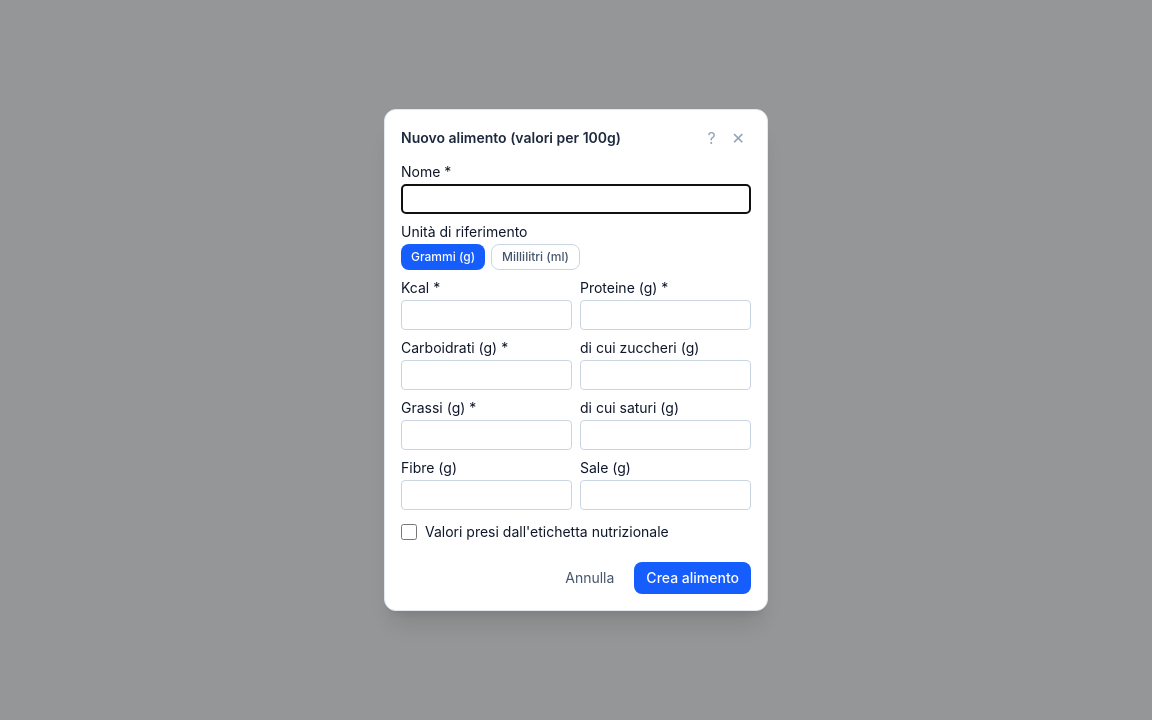
Test: AlimentoFormModal - nuovo alimento › AlimentoFormModal_nomeVuoto_mostraErroreSenzaSalvare
The width and height of the screenshot is (1152, 720).
Type "350" into the number field labelled "Kcal *" at (486, 315), box [401, 300, 572, 330]
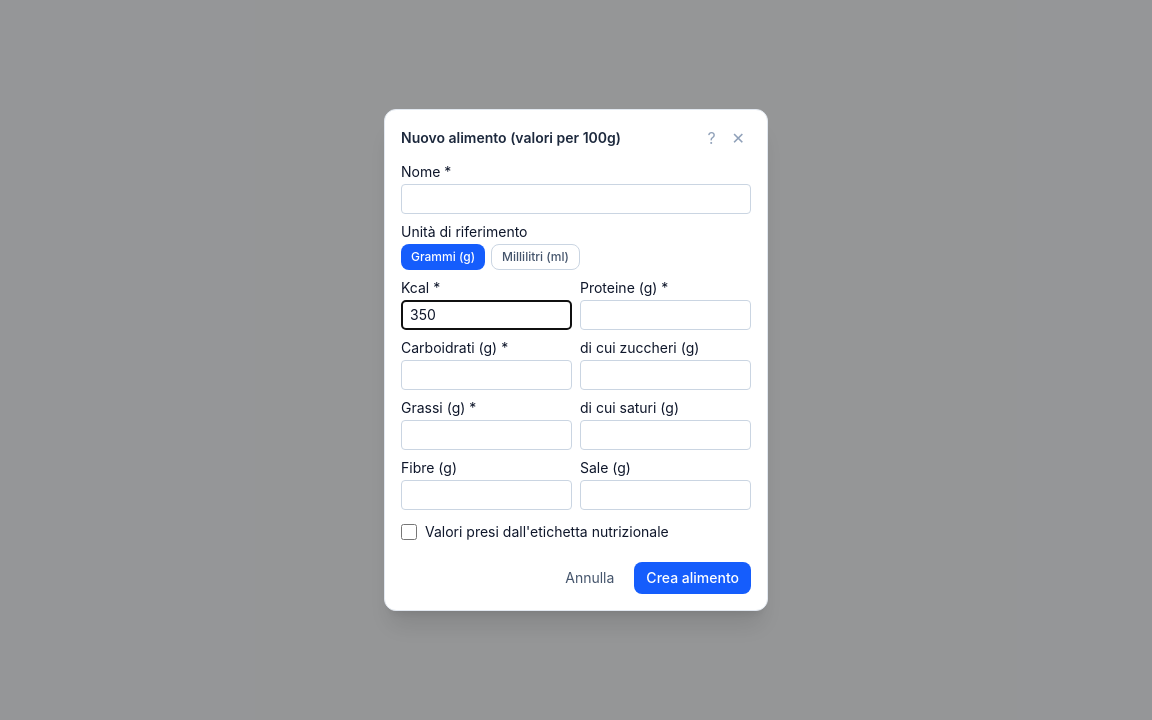
Type "12" into the number field labelled "Proteine (g) *" at (666, 315), box [580, 300, 751, 330]
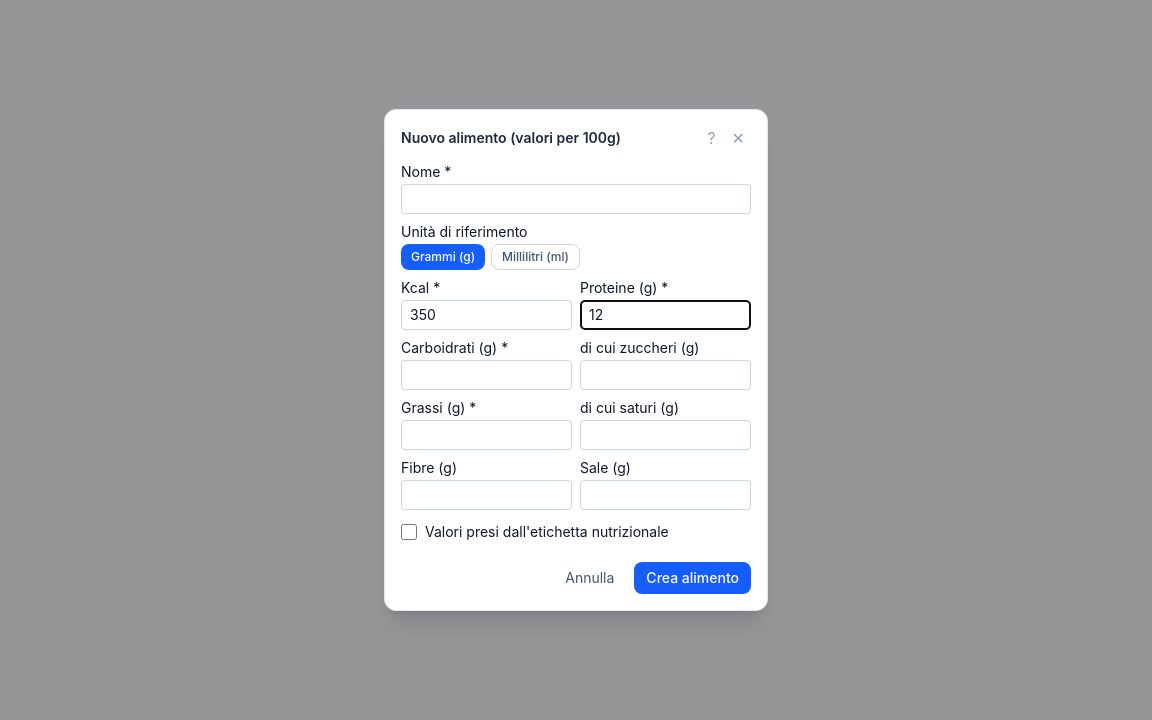
Type "70" into the number field labelled "Carboidrati (g) *" at (486, 375), box [401, 360, 572, 390]
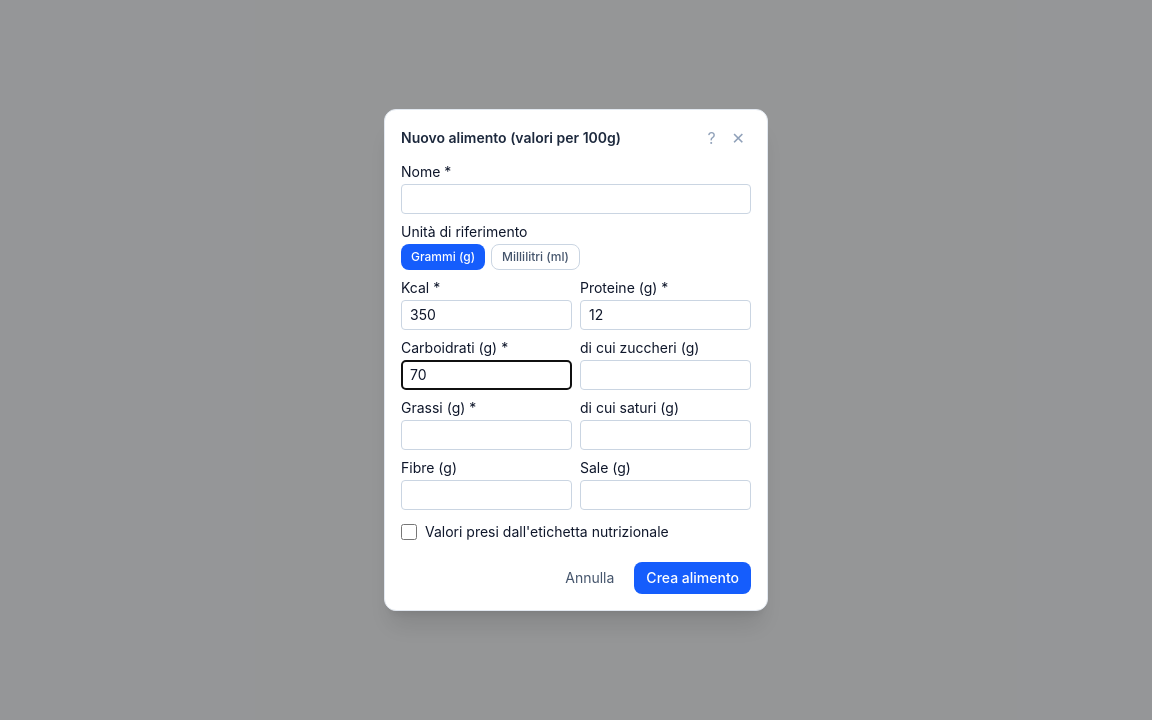
Type "2" into the number field labelled "Grassi (g) *" at (486, 435), box [401, 420, 572, 450]
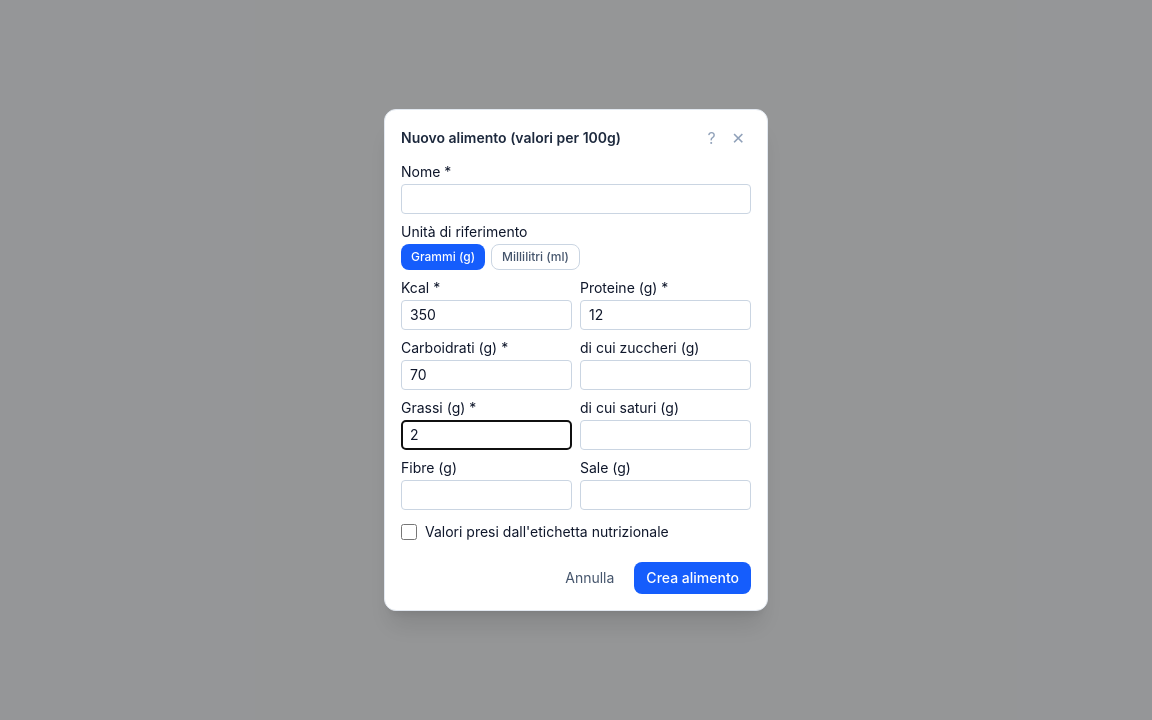
Click the button "Crea alimento" at (693, 578), box [634, 562, 751, 594]
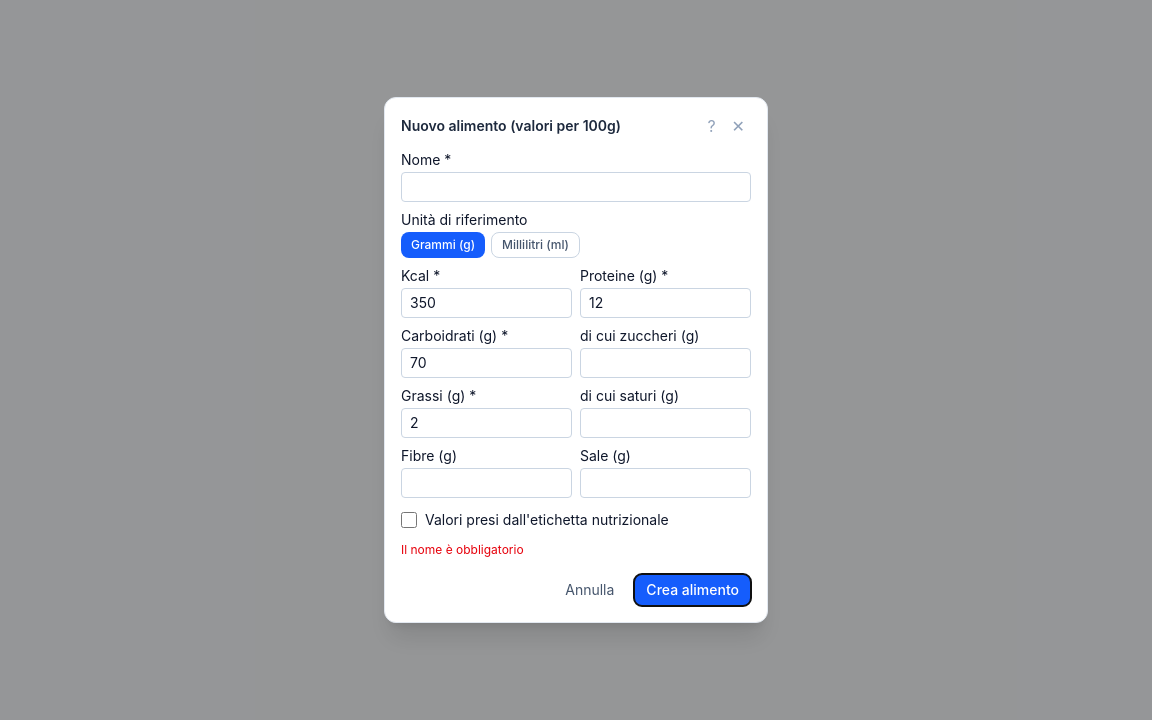
Now the text "Il nome è obbligatorio" is shown, box [401, 542, 524, 557]
